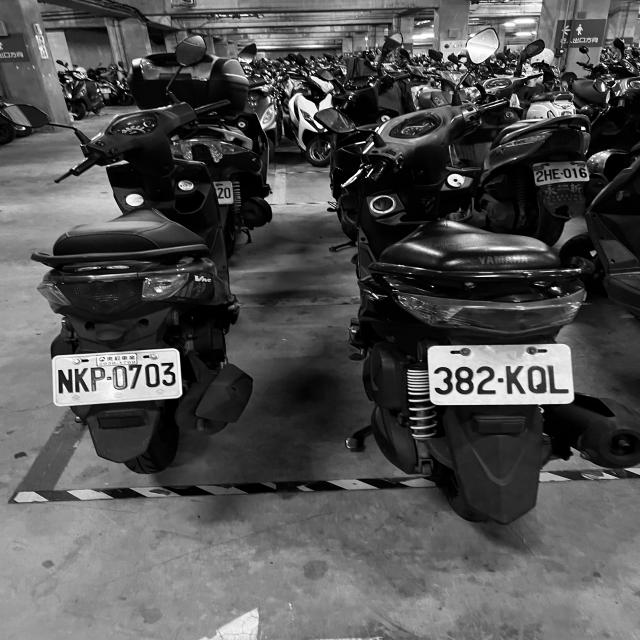-: (498, 376, 504, 384), (106, 375, 112, 381), (560, 172, 563, 176)
0: (142, 362, 161, 388), (111, 365, 128, 390), (563, 168, 572, 178)
1: (572, 168, 578, 178)
2: (475, 365, 497, 395), (535, 171, 544, 181)
3: (432, 366, 453, 395), (159, 360, 178, 388)
6: (578, 167, 588, 179)
7: (126, 362, 142, 390)
9: (452, 366, 476, 394)
E: (552, 168, 561, 179)
H: (544, 169, 552, 180)
K: (504, 364, 526, 394), (74, 367, 90, 393)
L: (547, 362, 572, 395)
N: (57, 368, 75, 394)
Q: (526, 363, 550, 395)
plate: (429, 348, 576, 402), (52, 357, 182, 398), (533, 162, 590, 184), (89, 364, 105, 394)
